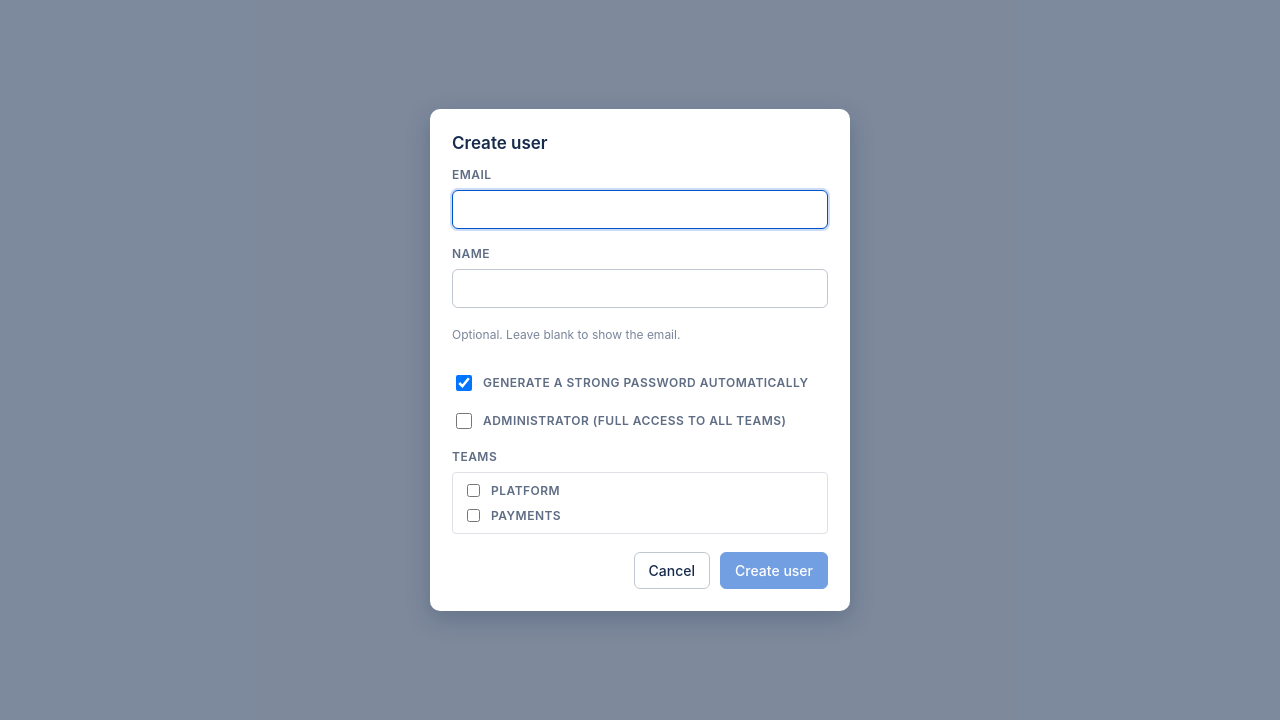
Test: CreateUserDialog › surfaces a server email_in_use (409) via a toast without a field-error banner
Step 1. Type "dup@dataart.com" into the field labelled "Email" → [640, 210], box [452, 190, 828, 229]
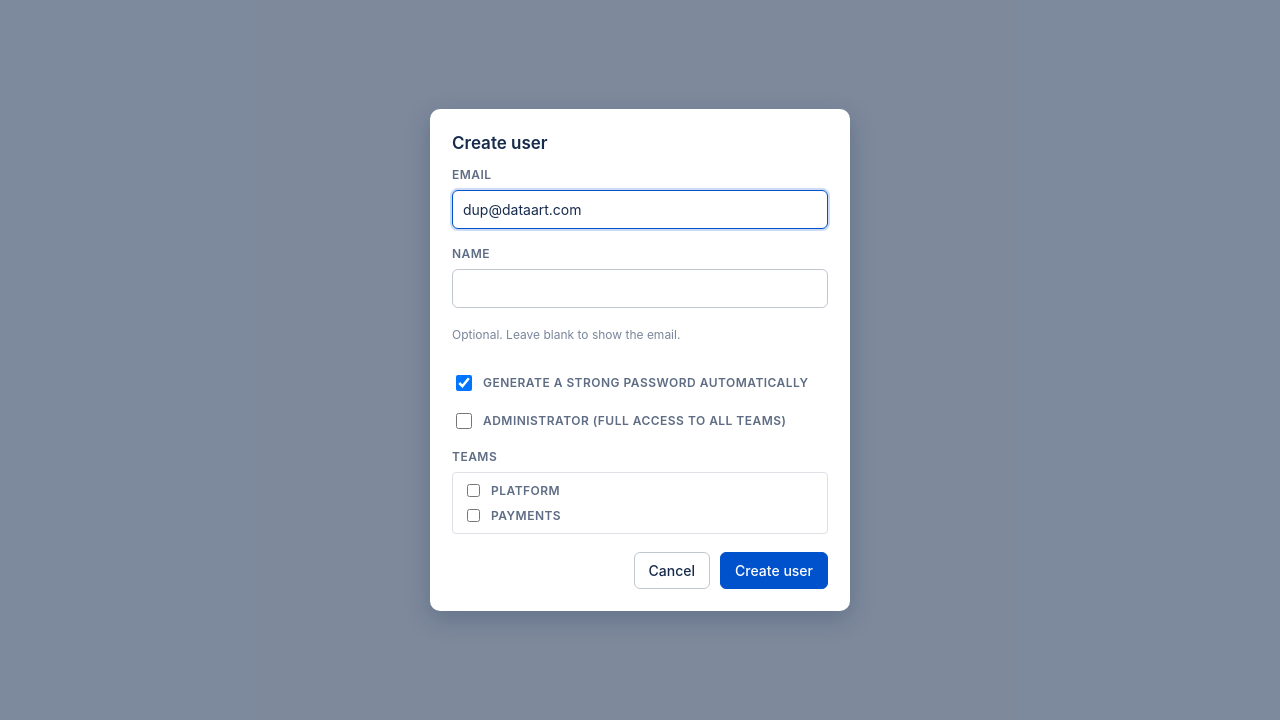
Step 2. Click the button "Create user" → [774, 571], box [720, 552, 828, 589]
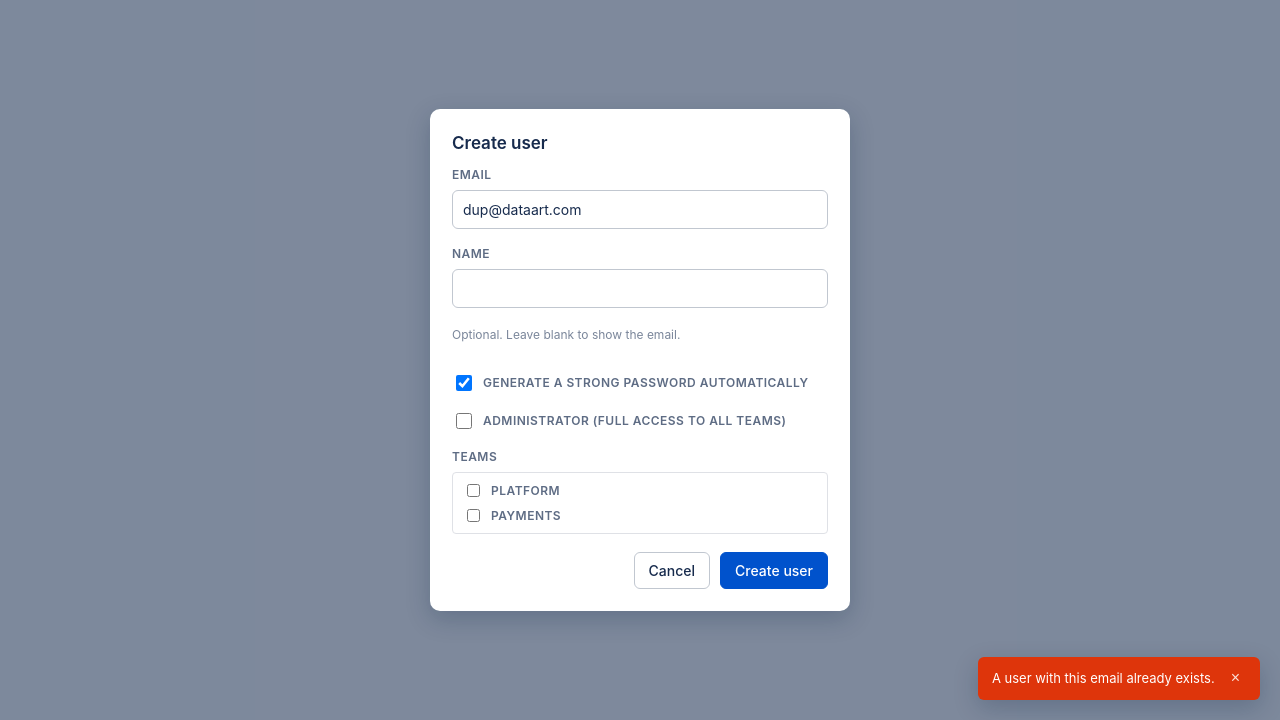
Now the text "A user with this email already exists." is shown, box [992, 668, 1215, 688]
